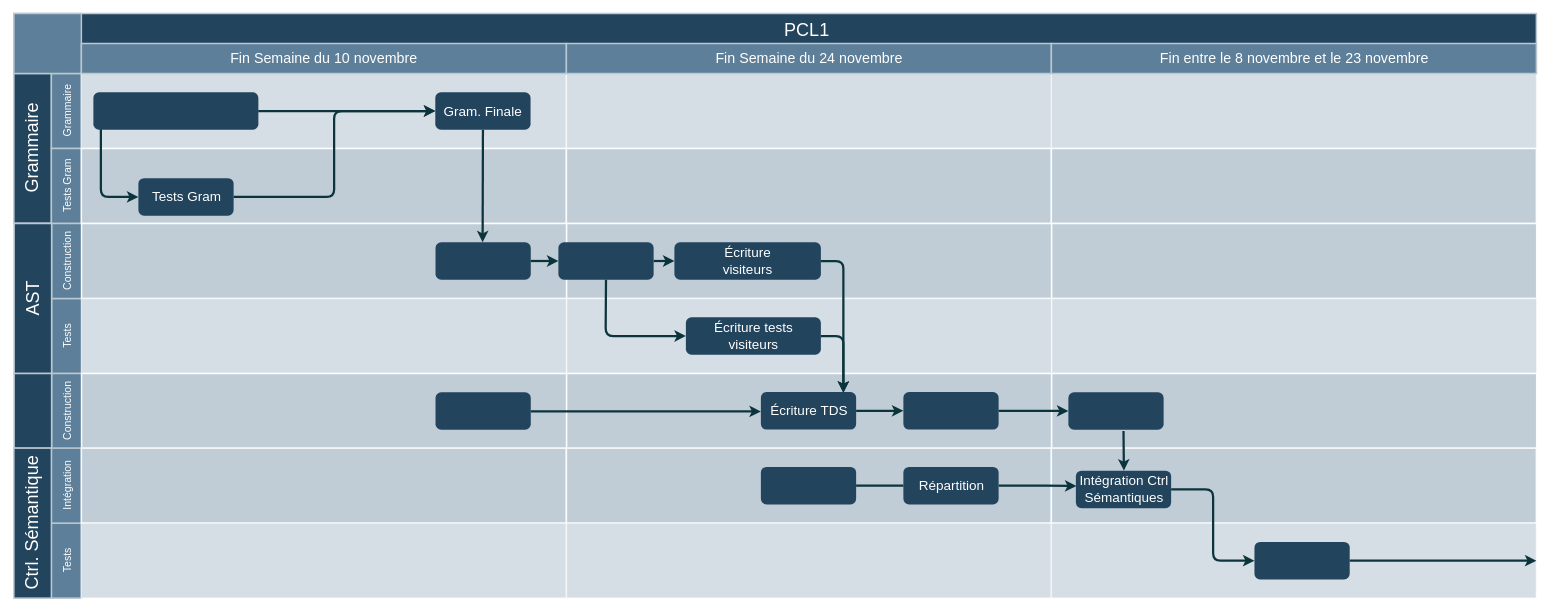
The diagram is 1556 pixels wide and 612 high, and some of its shapes have lost their labels. Each missing label, with the centre of its shape:
"Ajustements*" goes at pixel 1115 410.
"Base ANTLR" goes at pixel 482 260.
"Contrôles TDS" goes at pixel 950 410.
"Liste des Ctrl Sémantiques" goes at pixel 808 485.
"Réflexion" goes at pixel 482 410.
"Répartition visiteurs" goes at pixel 605 260.
"TDS" goes at pixel 32 410.
"Tests Ctrl Sémantiques" goes at pixel 1301 560.
"v 1.0" goes at pixel 47 43.
"Écriture sur Antlr4" goes at pixel 175 110.
